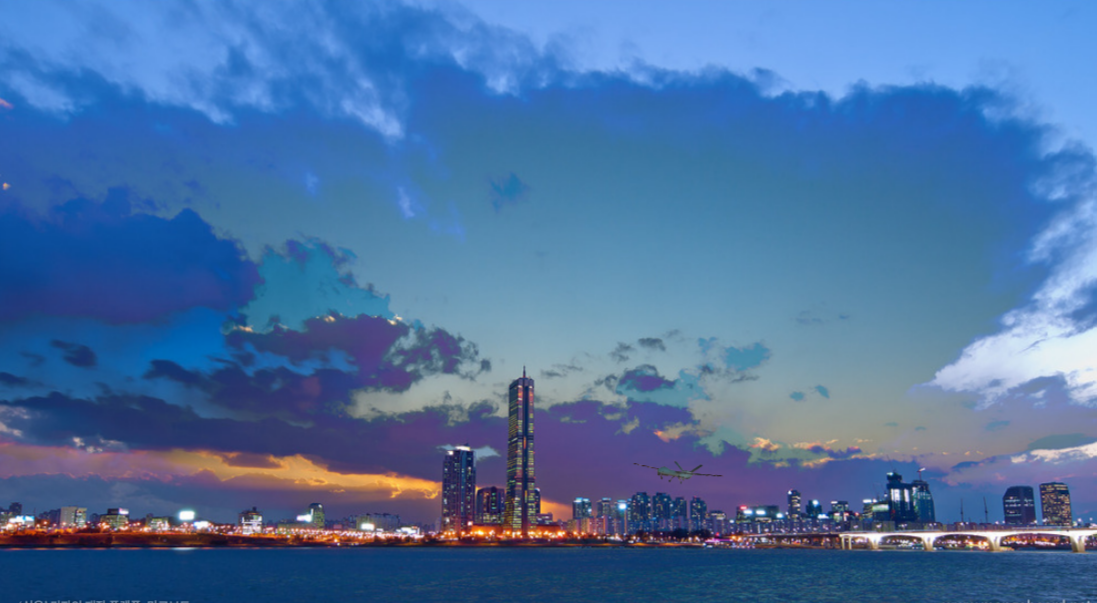military drone: (633, 460, 722, 484)
